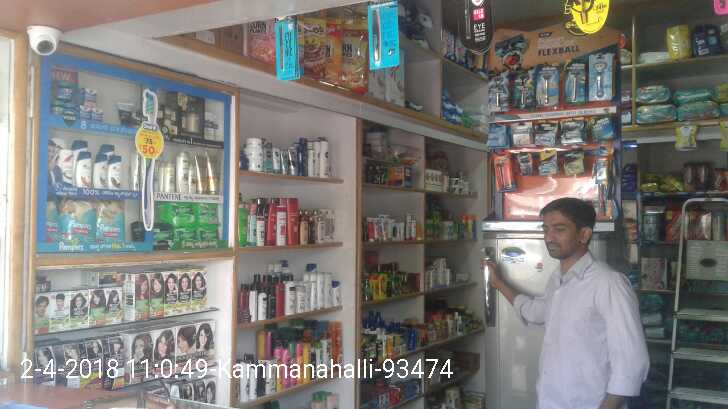vicks: (50, 79, 78, 122), (78, 90, 104, 122)
